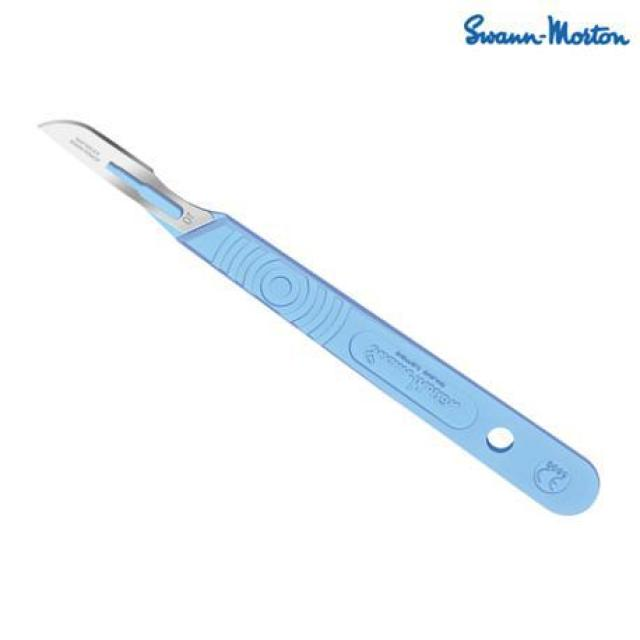B3: (32, 114, 600, 518)
